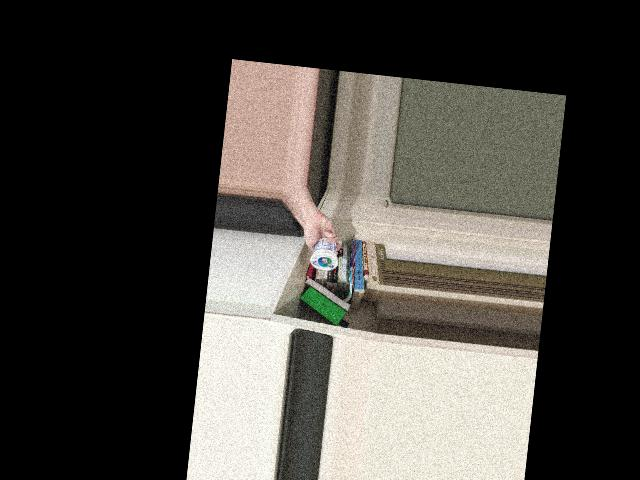cotage: (310, 231, 341, 273)
